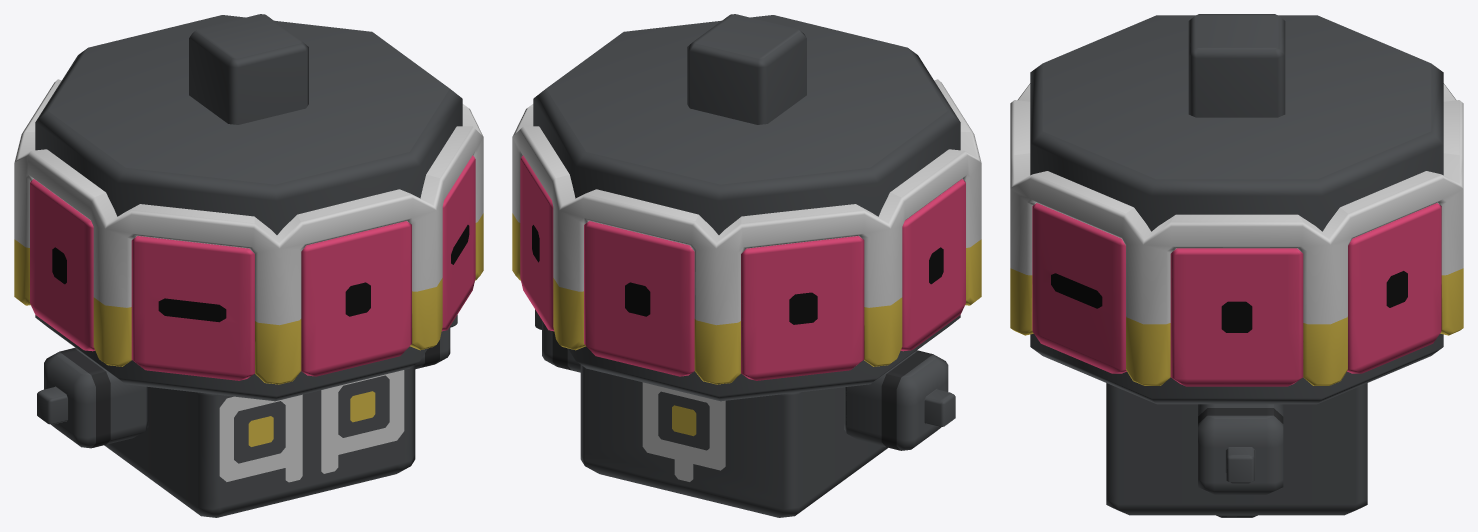
The picture shows the model from 3 angles, left to right: view 1: azimuth 30°, elevation 25°; view 2: azimuth 150°, elevation 25°; view 3: azimuth 270°, elevation 25°; orthographic projection. The views are drawn at different scales.
Visible parts, largest first — view 1: model; view 2: model; view 3: model.
Part boxes in pixels (x1,y1,x2,y2): model: (14, 14, 483, 517); model: (512, 14, 981, 517); model: (1010, 14, 1463, 517).
Bounding box in the file's own units: 3.03 × 3.08 × 2.8.
